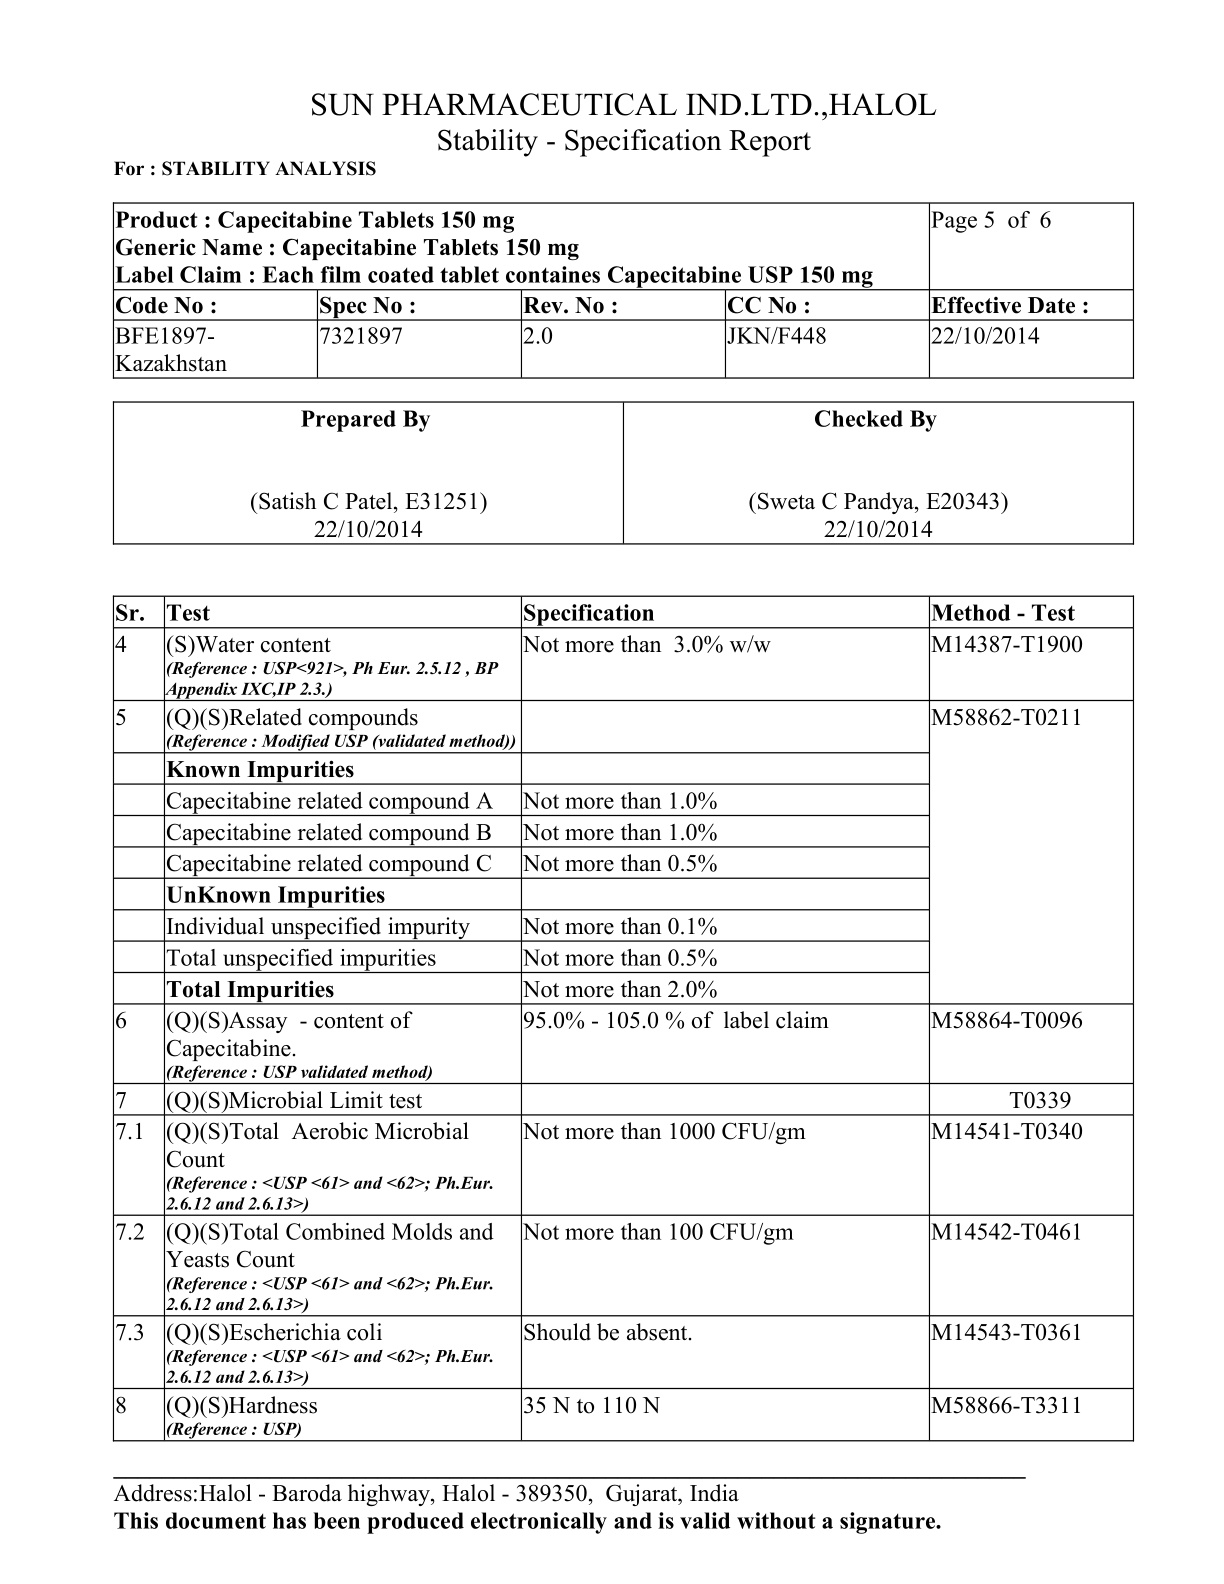full_lined: (112, 401, 1134, 545)
merged_cells: (112, 595, 1134, 1443), (112, 202, 1134, 379)
